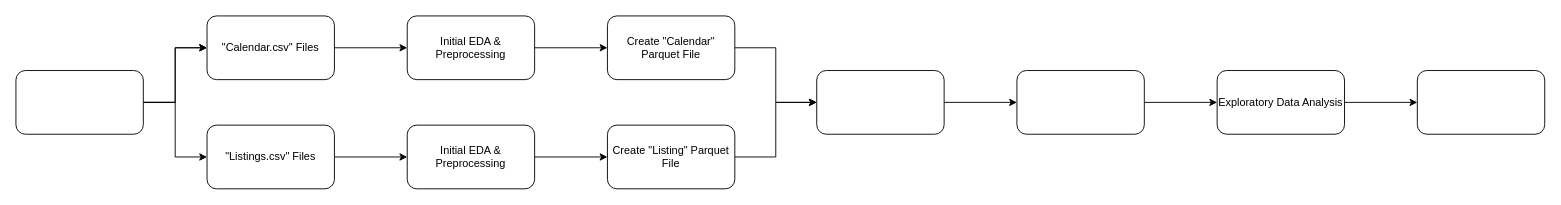
This 1561x205 diagram has some shape labels left out. Each missing label, with the box of its shape:
Access Dataset (Inside Airbnb): (15, 70, 143, 134)
Additional Data Cleaning: (1016, 70, 1144, 134)
Combine to Create Final Dataset: (816, 70, 944, 134)
Conclusion & Insight: (1416, 70, 1545, 134)
